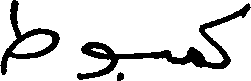ب: (118, 47, 172, 79)
ط: (0, 0, 59, 76)
ك: (200, 1, 248, 70)
م: (186, 45, 201, 68)
و: (78, 40, 116, 79)
